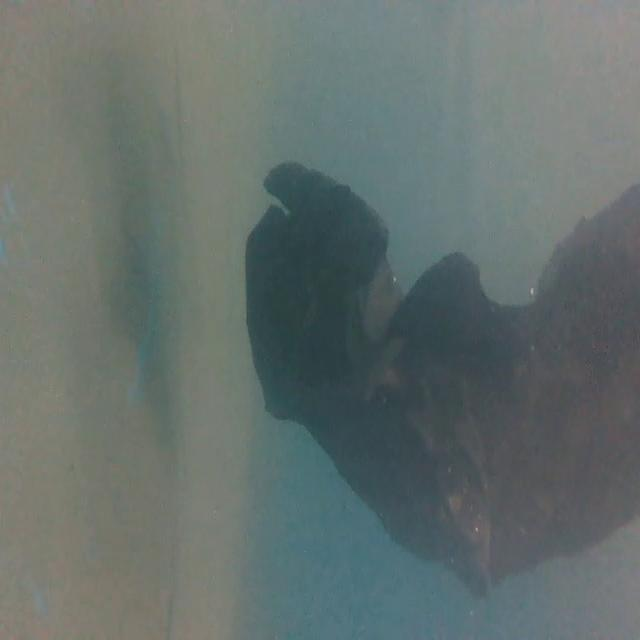plastic bags: (225, 150, 640, 586)
